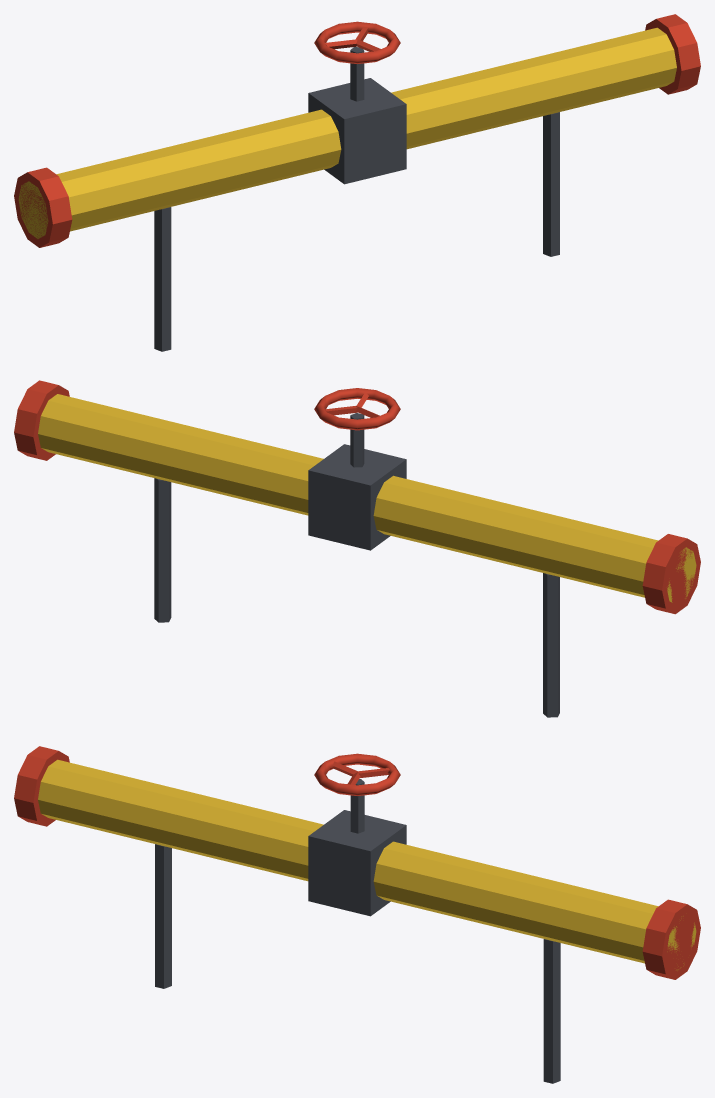
File: PipeG_Valve.fbx
3 views of the same model, one above another, from view 1: azimuth 30°, elevation 25°; view 2: azimuth 150°, elevation 25°; view 3: azimuth 330°, elevation 25° (orthographic).
Visible parts, largest first — view 1: PipeG_Valve_Body, PipeG_Valve_Wheel; view 2: PipeG_Valve_Body, PipeG_Valve_Wheel; view 3: PipeG_Valve_Body, PipeG_Valve_Wheel.
Part boxes in pixels (left/top/right/bottom): PipeG_Valve_Body: left=14, top=14, right=700, bottom=351; PipeG_Valve_Wheel: left=314, top=21, right=400, bottom=63; PipeG_Valve_Body: left=14, top=380, right=700, bottom=717; PipeG_Valve_Wheel: left=314, top=388, right=400, bottom=430; PipeG_Valve_Body: left=14, top=746, right=700, bottom=1083; PipeG_Valve_Wheel: left=314, top=753, right=400, bottom=795.
Size of the model in its own units: 1 by 0.388 by 0.116.
